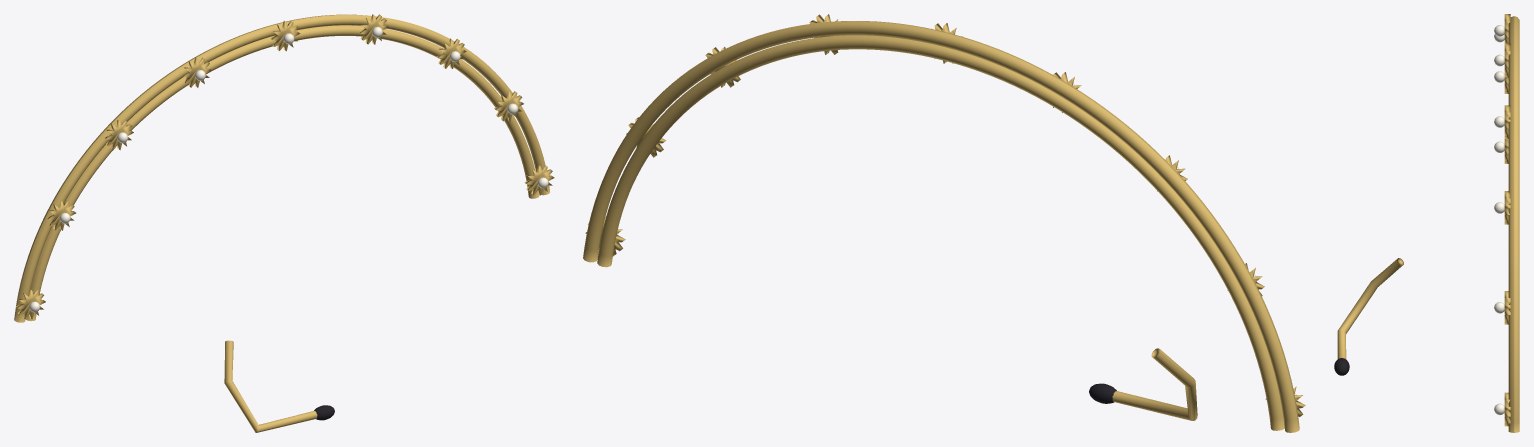
File: prime_headpiece.glb
3 renders of one model, left to right at view 1: azimuth 30°, elevation 25°; view 2: azimuth 150°, elevation 25°; view 3: azimuth 270°, elevation 25°, orthographic. The views are drawn at different scales.
Visible parts, largest first — view 1: prime_headpiece; view 2: prime_headpiece; view 3: prime_headpiece.
Boxes of the visible parts, box(x1,y1,x2,y2) form: prime_headpiece: box(14, 14, 554, 432); prime_headpiece: box(583, 14, 1305, 432); prime_headpiece: box(1334, 14, 1519, 432).
Bounding box in the file's own units: 1.01 × 0.593 × 0.2854.
